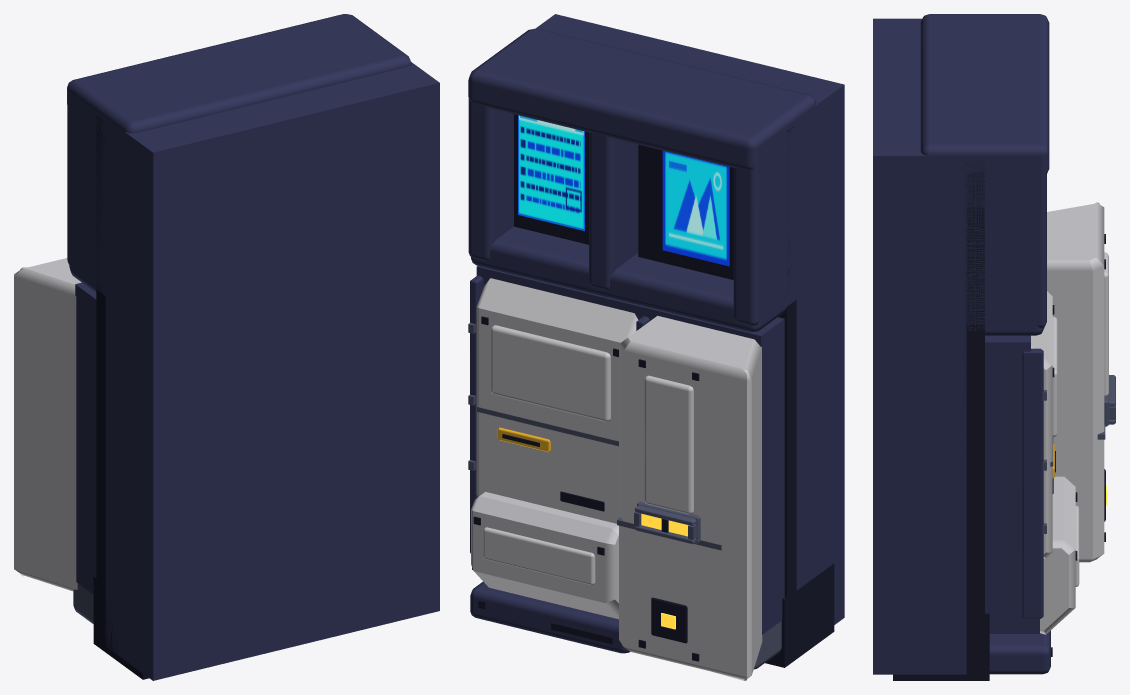
Rendered from hull.bay.plate_large.window.none.plate.w1.414.s0.k-1.25.t-0.95_0.42_1.3_1.85_0.7071.glb.
The picture shows the model from 3 angles, left to right: view 1: azimuth 30°, elevation 25°; view 2: azimuth 150°, elevation 25°; view 3: azimuth 270°, elevation 25°; orthographic projection. The views are drawn at different scales.
Visible parts, largest first — view 1: hull.bay.plate_large.window.none.plate.w1.414.s0.k-1.25.t-0.; view 2: hull.bay.plate_large.window.none.plate.w1.414.s0.k-1.25.t-0.; view 3: hull.bay.plate_large.window.none.plate.w1.414.s0.k-1.25.t-0..
Part boxes in pixels (bbox=[...]): hull.bay.plate_large.window.none.plate.w1.414.s0.k-1.25.t-0.: bbox=[14, 14, 439, 680]; hull.bay.plate_large.window.none.plate.w1.414.s0.k-1.25.t-0.: bbox=[468, 14, 844, 680]; hull.bay.plate_large.window.none.plate.w1.414.s0.k-1.25.t-0.: bbox=[873, 14, 1115, 680].
Bounding box in the file's own units: 1.53 × 2.56 × 1.06.
Materials: 9 (2 with a texture image).
